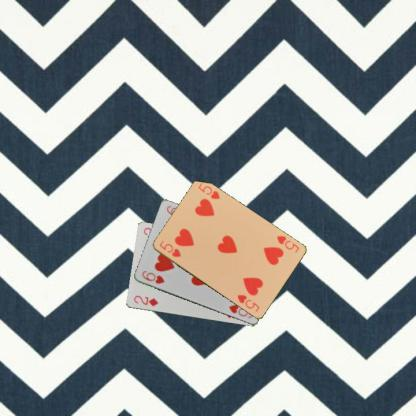2d: (131, 293, 160, 308)
5h: (274, 233, 300, 254), (157, 238, 182, 258)
6h: (139, 268, 166, 286)
